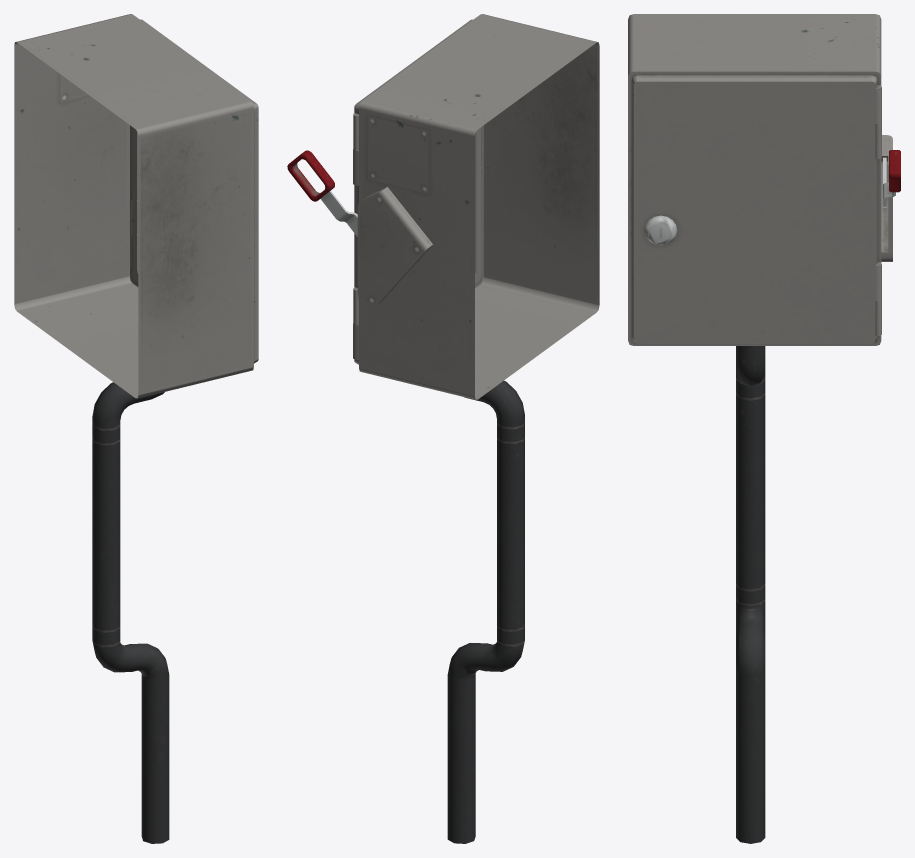
Rendered from SM_FuseBox_01.FBX.
3 views of the same model, side by side, from view 1: azimuth 30°, elevation 25°; view 2: azimuth 150°, elevation 25°; view 3: azimuth 270°, elevation 25° (orthographic). The views are drawn at different scales.
Parts seen in each view (by area): view 1: SM_FuseBox_01_LOD0; view 2: SM_FuseBox_01_LOD0; view 3: SM_FuseBox_01_LOD0.
Part boxes in pixels (x1,y1,x2,y2): SM_FuseBox_01_LOD0: [14, 14, 258, 843]; SM_FuseBox_01_LOD0: [287, 14, 599, 843]; SM_FuseBox_01_LOD0: [628, 14, 900, 843].
Size of the model in its own units: 41.43 by 53.86 by 171.
